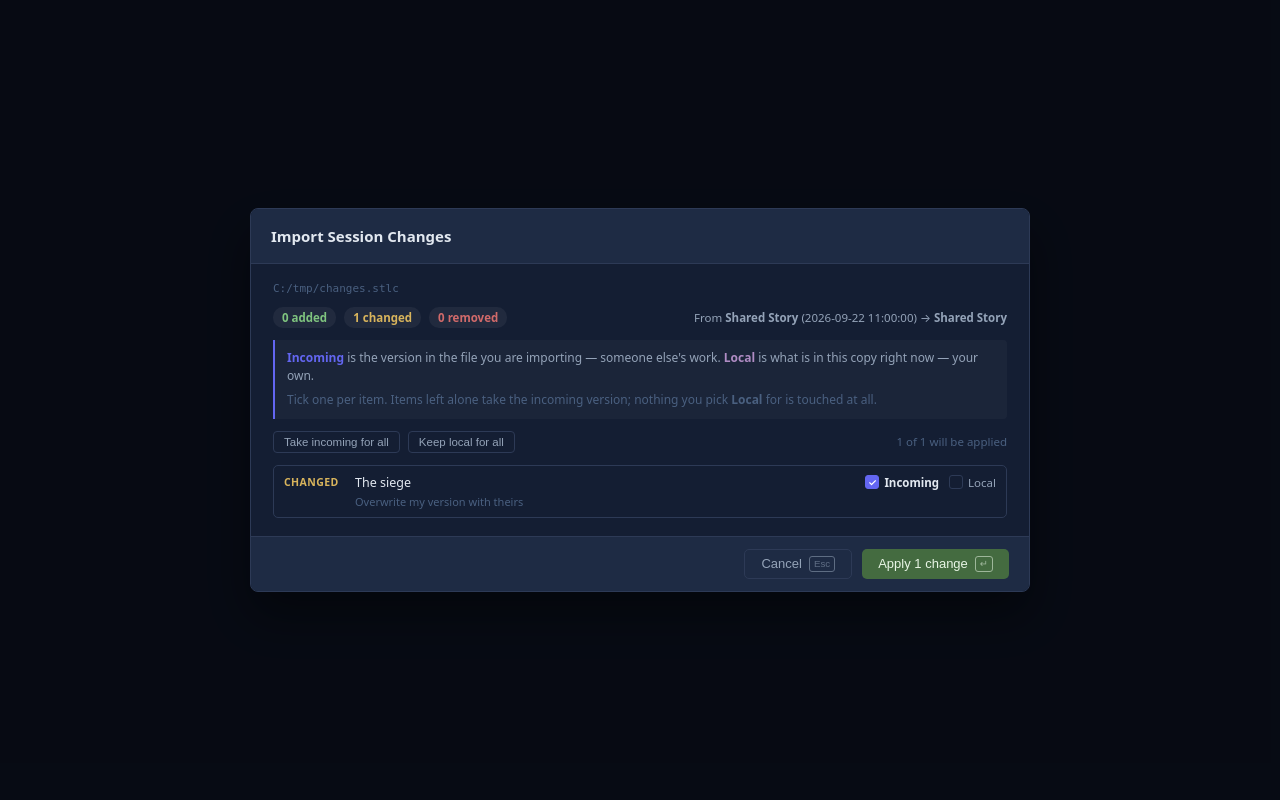
it: SessionChangesImportModal › will not apply nothing
What coordinates should you click on to do the following:
click the button with class "bulk-btn" showing "Keep local for all"
I would click on:
 (461, 442)
Its box is [408,431,515,453].
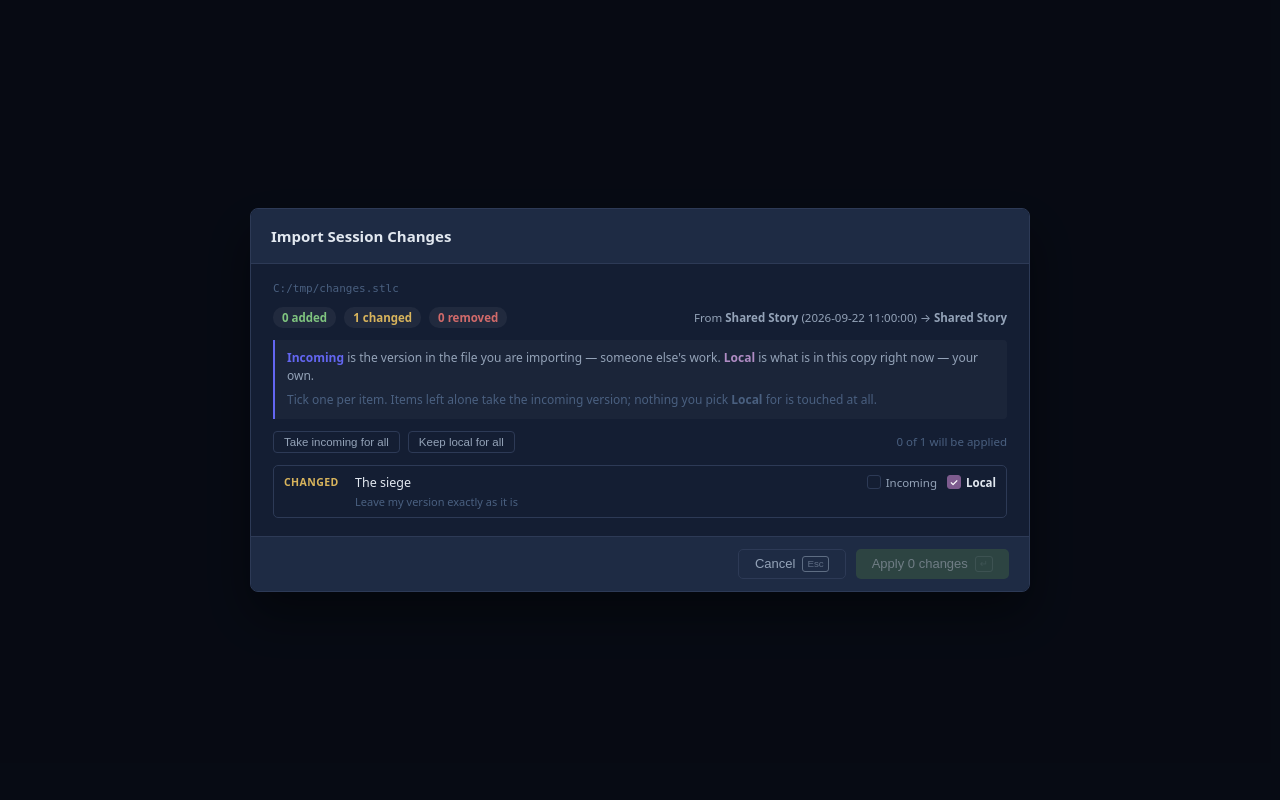
Now the button "Apply 0 changes" is disabled, box [856,549,1009,579]
